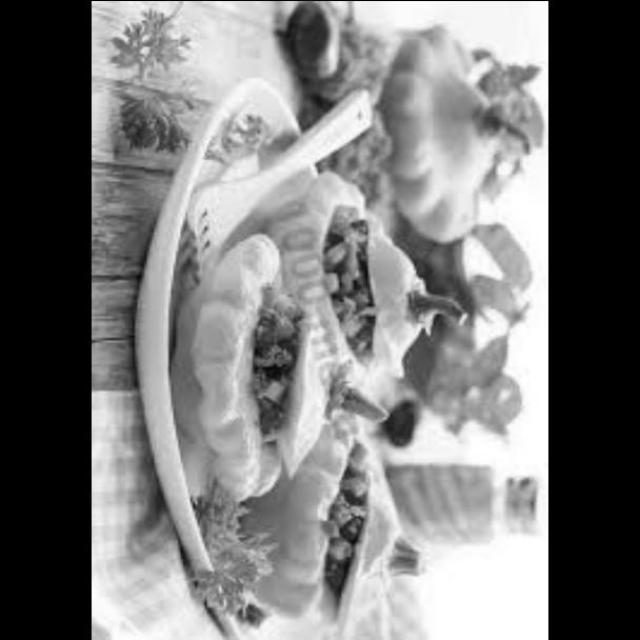squash: (375, 25, 518, 240), (186, 233, 286, 510), (230, 425, 354, 619), (279, 167, 380, 353), (341, 458, 432, 622), (286, 318, 362, 477), (372, 222, 445, 380)
tomato: (285, 0, 356, 86), (377, 391, 440, 452)
